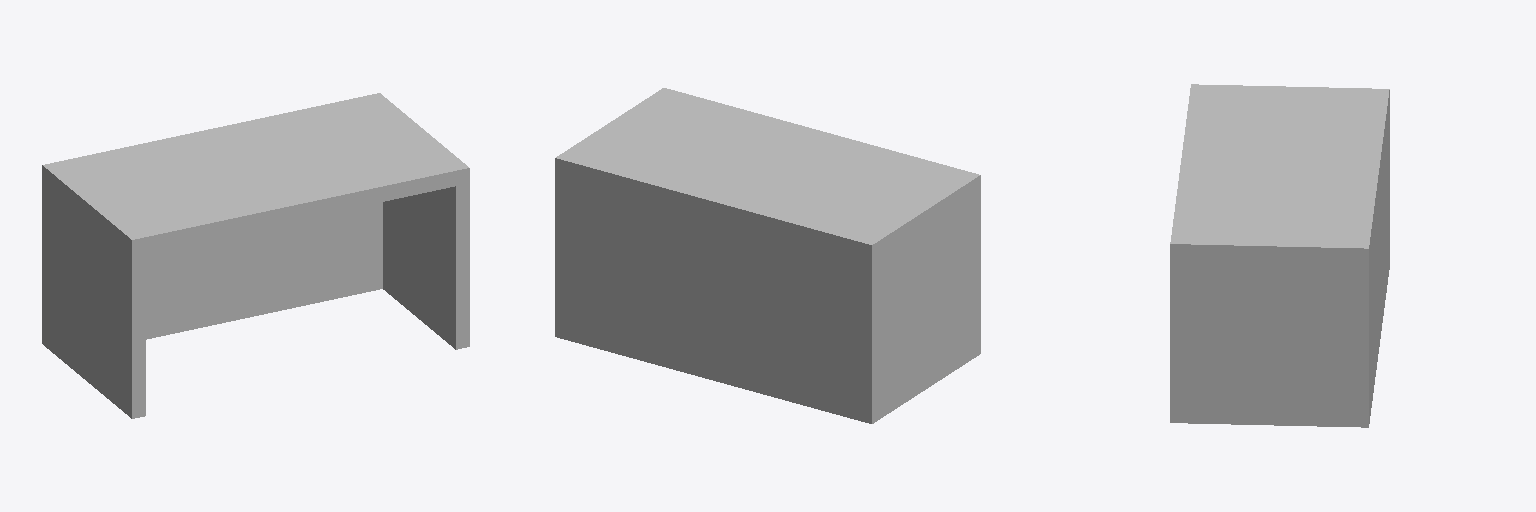
Rendered from shed.obj.
3 renders of one model, left to right at view 1: azimuth 30°, elevation 25°; view 2: azimuth 150°, elevation 25°; view 3: azimuth 270°, elevation 25°, orthographic.
Visible parts, largest first — view 1: Cube.006; view 2: Cube.006; view 3: Cube.006.
Boxes of the visible parts, box(x1,y1,x2,y2) form: Cube.006: box(42, 93, 469, 418); Cube.006: box(555, 88, 980, 423); Cube.006: box(1170, 84, 1389, 427).
Bounding box in the file's own units: 3.94 × 2 × 2.22.